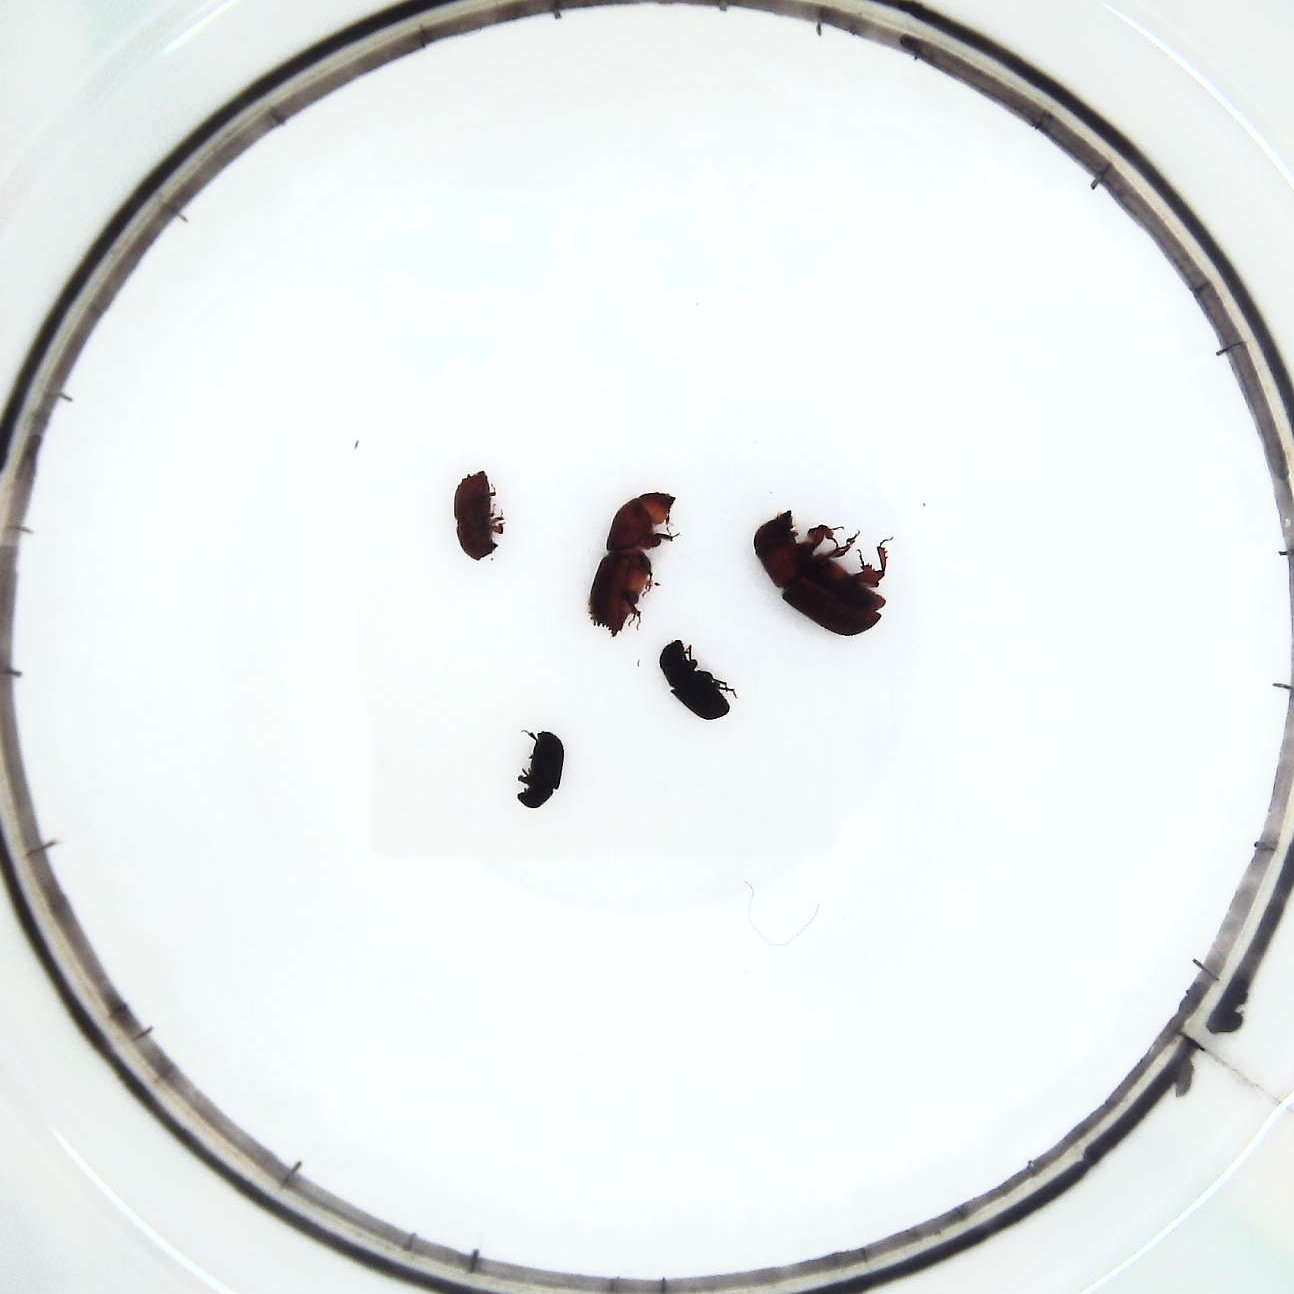Boerner: (583, 483, 679, 638)
Leconte: (748, 506, 892, 642)
armandi: (658, 630, 739, 728)
coleoptera: (512, 723, 565, 811)
linnaeus: (446, 467, 510, 566)
